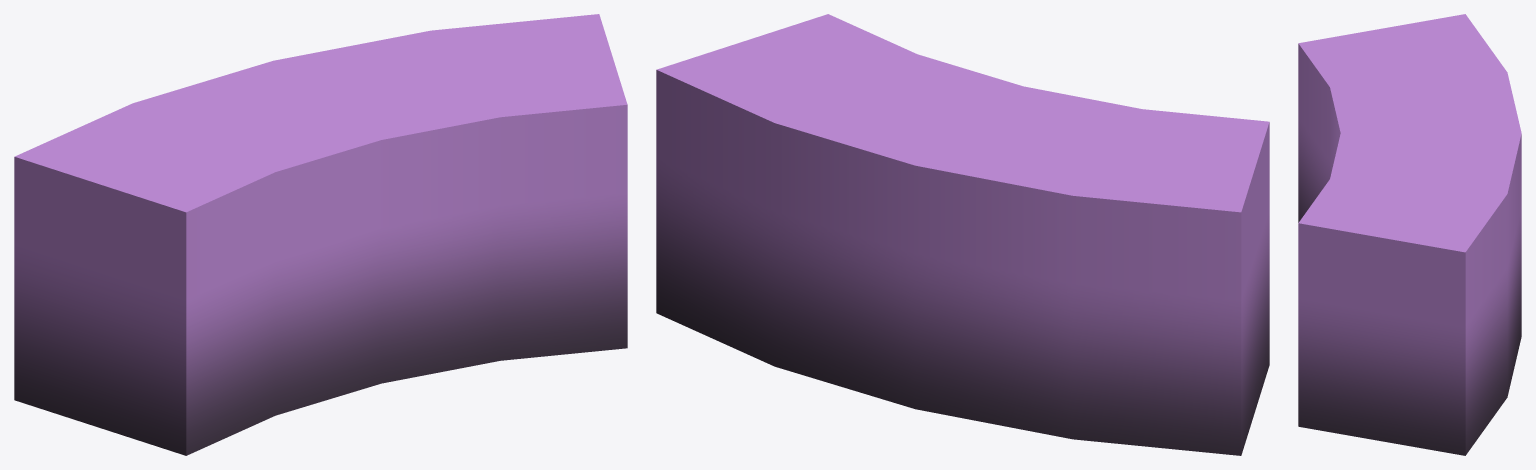
3 renders of one model, left to right at view 1: azimuth 30°, elevation 25°; view 2: azimuth 150°, elevation 25°; view 3: azimuth 270°, elevation 25°, orthographic. The views are drawn at different scales.
Parts seen in each view (by area): view 1: Base02; view 2: Base02; view 3: Base02.
Boxes of the visible parts, <box> form: Base02: <box>14,14,627,455</box>; Base02: <box>656,14,1269,455</box>; Base02: <box>1298,14,1521,455</box>.
Size of what is drawn, in the model's own units: 27.19 by 10.82 by 10.76.
1 material, 1 textured.
